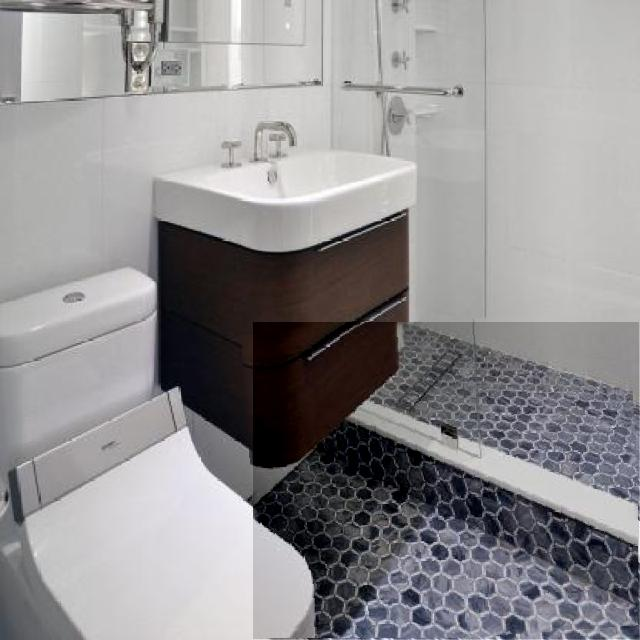floor: (254, 323, 639, 639)
